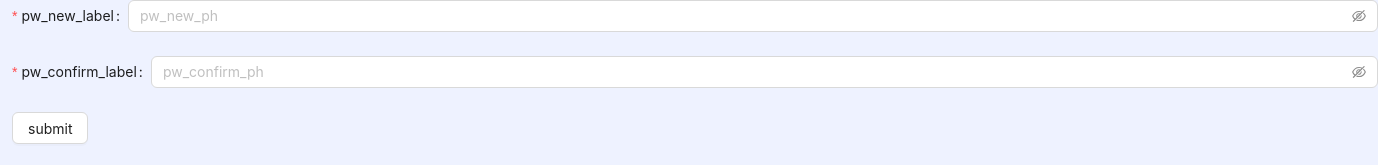
Test: PasswordForm › rejects a password that violates the policy (no uppercase/digit)
In the password field with placeholder "pw_new_ph": point(744, 16) [140,5,1348,27], type "lowercaseonly"
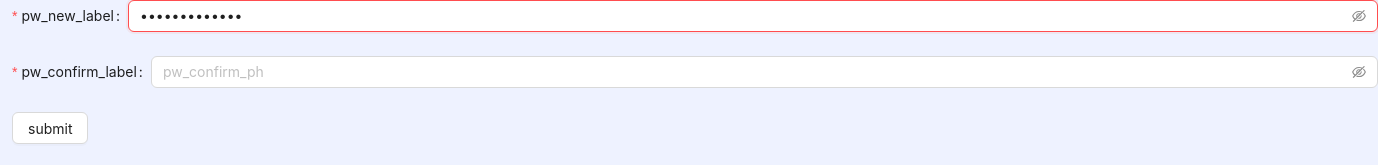
Click the button "submit": point(50, 128) [12,112,88,144]
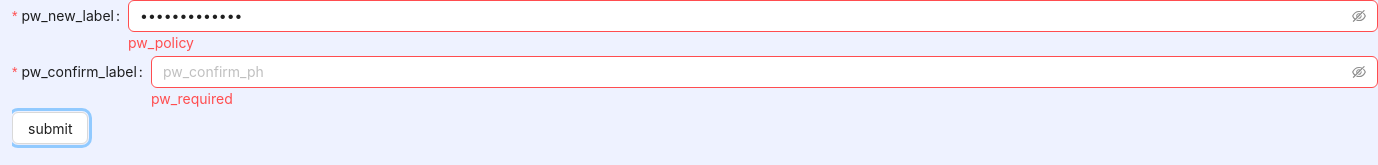
Expected: the text "pw_policy" is shown, [128,34,194,51]
